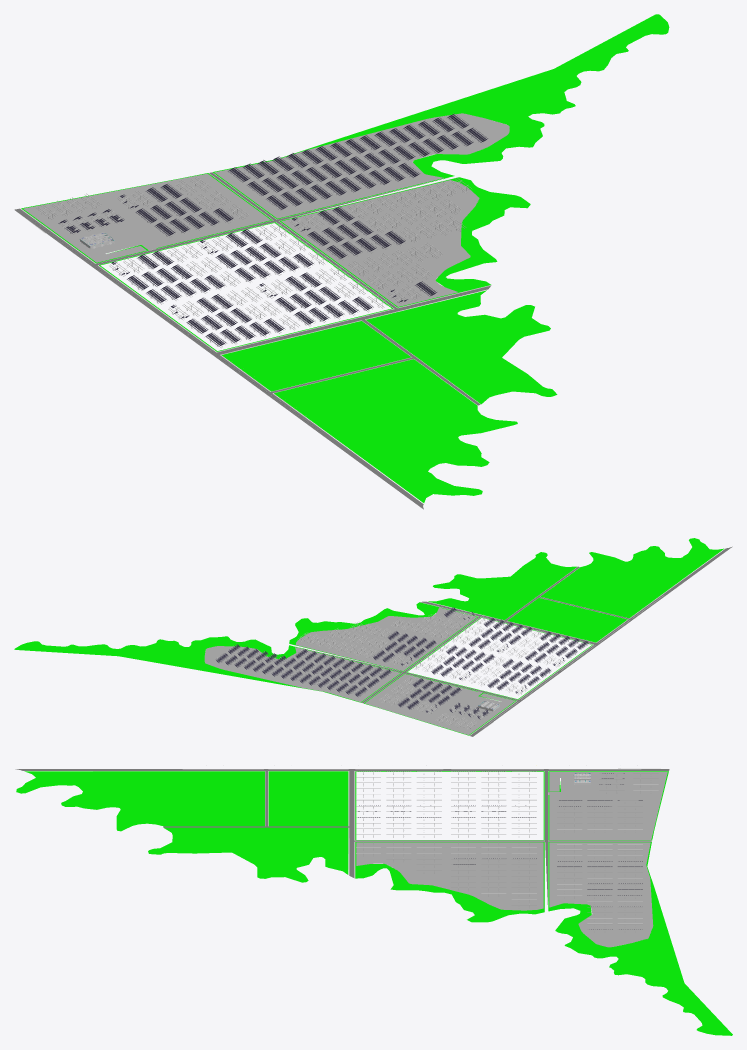
Rendered from Electical_Zone.glb.
3 views of the same model, one above another, from view 1: azimuth 30°, elevation 25°; view 2: azimuth 150°, elevation 25°; view 3: azimuth 270°, elevation 25° (orthographic). The views are drawn at different scales.
Visible parts, largest first — view 1: Model_Zonasi_Clean; view 2: Model_Zonasi_Clean; view 3: Model_Zonasi_Clean.
Boxes of the visible parts, x1,y1,x2,y2 form: Model_Zonasi_Clean: (14, 14, 669, 509); Model_Zonasi_Clean: (14, 538, 732, 736); Model_Zonasi_Clean: (15, 765, 732, 1035).
Bounding box in the file's own units: 3 × 0.0267 × 3.41.
Materials: 21 (5 with a texture image).
